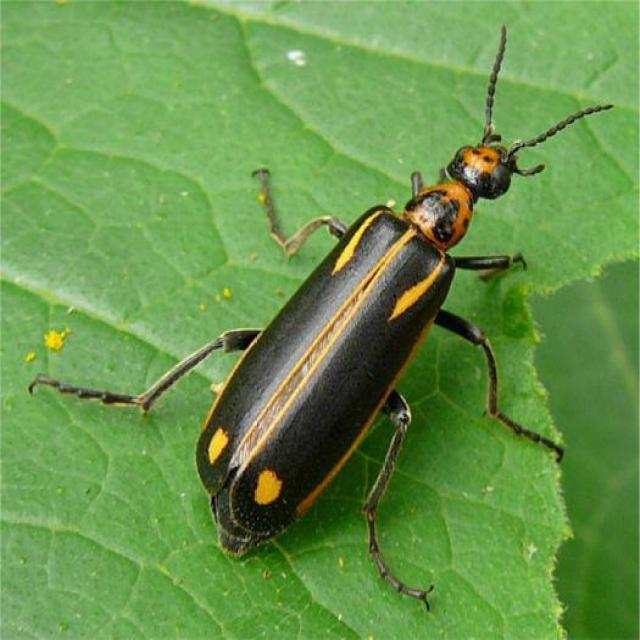BlisterBeetle-Adult-: (28, 21, 610, 616)
